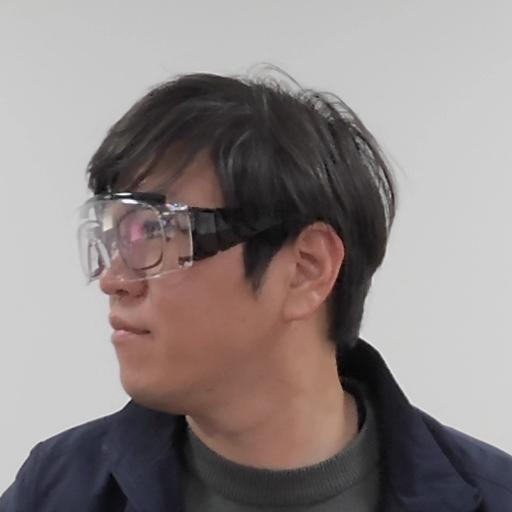glasses: (64, 68, 408, 384)
